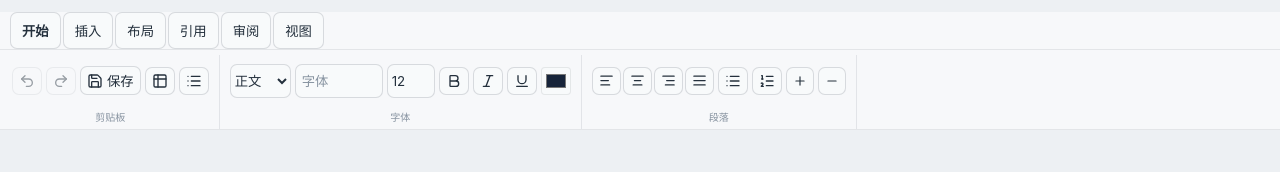
OfficeWordRibbon › keeps page layout in the outcome action row instead of duplicating it in the Ribbon
Click the tab "布局" at (141, 30), box x1=115 y1=12 x2=166 y2=49
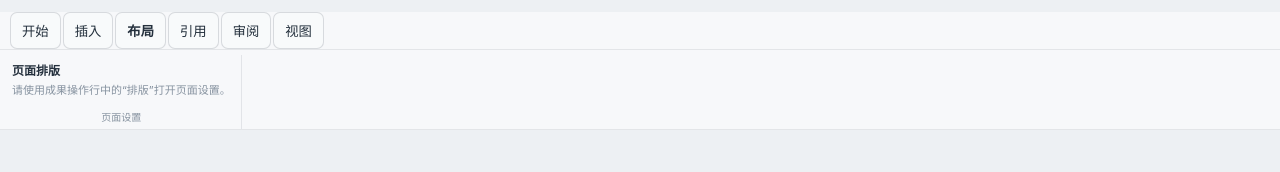
Result: the text "请使用成果操作行中的“排版”打开页面设置。" is shown at x1=12 y1=83 x2=231 y2=98
